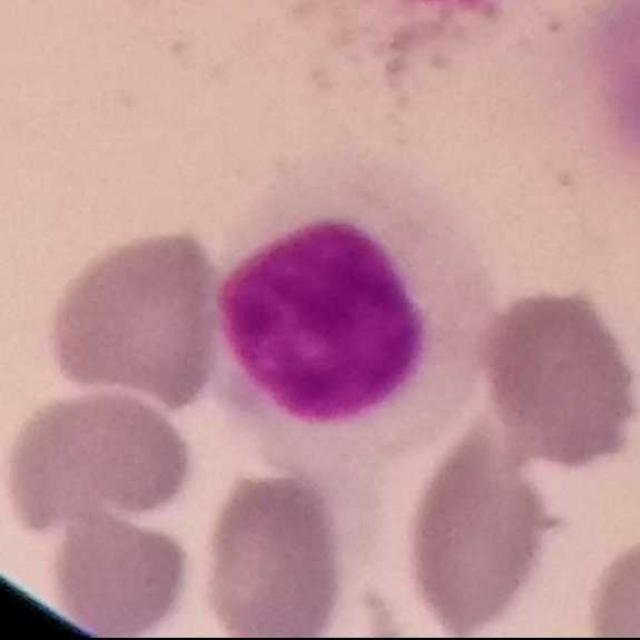Lymphocyte: (200, 161, 514, 484), (0, 552, 134, 639)
RBC: (398, 420, 566, 636), (40, 224, 229, 412), (474, 279, 640, 471), (1, 383, 199, 530), (195, 466, 349, 637), (42, 502, 196, 639), (576, 0, 640, 171), (580, 525, 640, 637)
